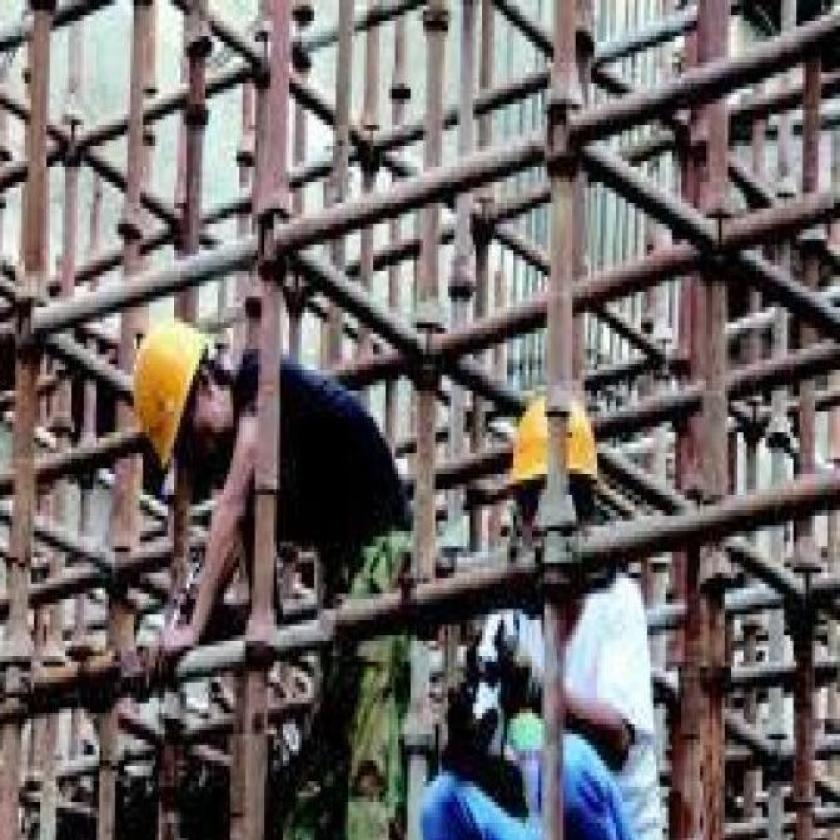Con_casco: (127, 314, 242, 504), (502, 392, 598, 589)
